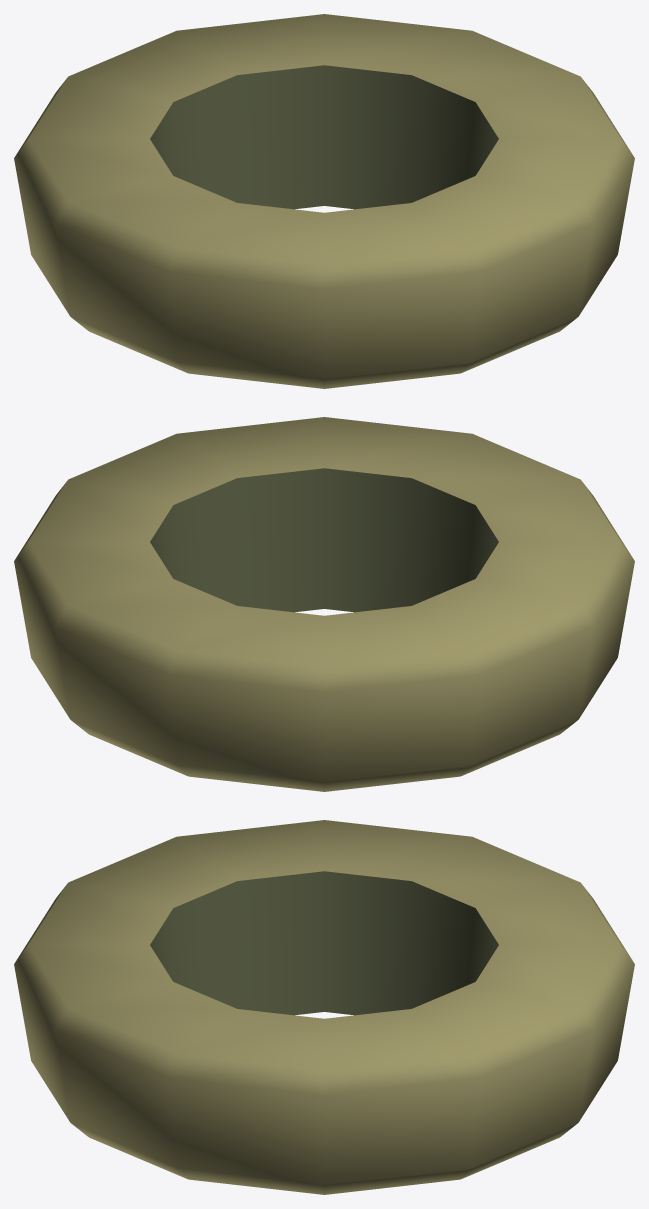
Rendered from Olive_ring_Hotdog.fbx.
The picture shows the model from 3 angles, top to bottom: view 1: azimuth 30°, elevation 25°; view 2: azimuth 150°, elevation 25°; view 3: azimuth 270°, elevation 25°; orthographic projection.
Parts seen in each view (by area): view 1: Olive_ring_Hotdog; view 2: Olive_ring_Hotdog; view 3: Olive_ring_Hotdog.
Boxes of the visible parts, x1=… form: Olive_ring_Hotdog: x1=14, y1=14, x2=634, y2=388; Olive_ring_Hotdog: x1=14, y1=417, x2=634, y2=791; Olive_ring_Hotdog: x1=14, y1=820, x2=634, y2=1194.
Bounding box in the file's own units: 23.89 × 23.89 × 5.73.
